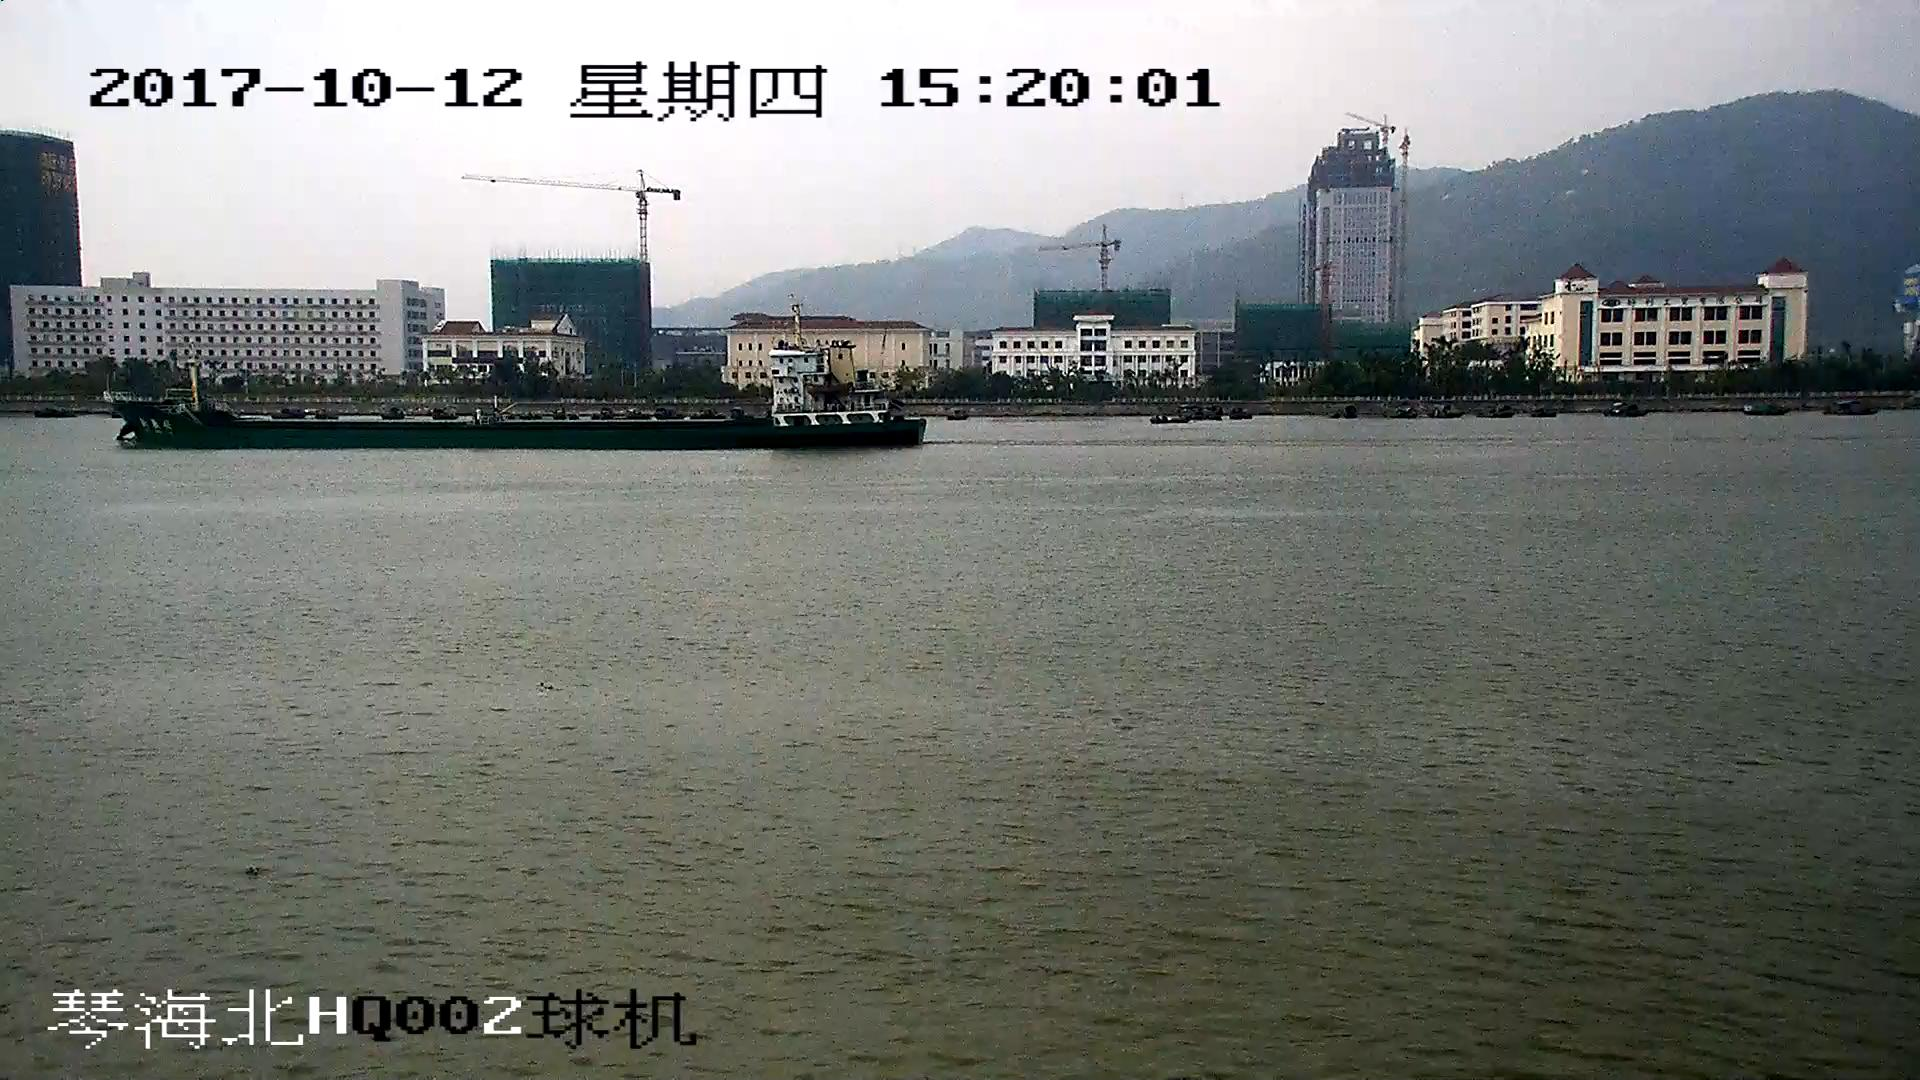general cargo ship: (111, 339, 926, 453)
